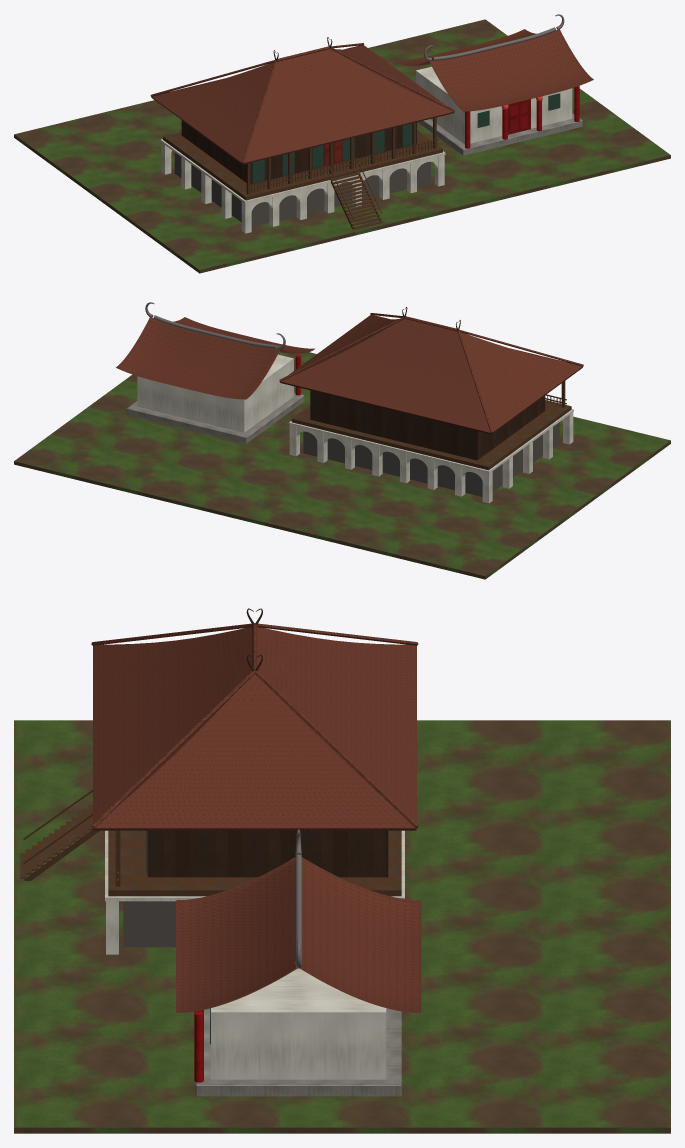
The model's file is kapitan.glb.
The picture shows the model from 3 angles, top to bottom: view 1: azimuth 30°, elevation 25°; view 2: azimuth 150°, elevation 25°; view 3: azimuth 270°, elevation 25°; orthographic projection. The views are drawn at different scales.
Parts seen in each view (by area): view 1: kapitan_tanah, kapitan_genteng_tua, kapitan_plester_putih, kapitan_kayu_balok, kapitan_kolong_gelap, kapitan_kayu_tua, kapitan_jalusi, kapitan_batu_alas, kapitan_merah_pilar, kapitan_pintu_merah, kapitan_bubung_gelap; view 2: kapitan_tanah, kapitan_genteng_tua, kapitan_plester_putih, kapitan_kayu_tua, kapitan_kolong_gelap, kapitan_kayu_balok, kapitan_batu_alas, kapitan_bubung_gelap; view 3: kapitan_tanah, kapitan_genteng_tua, kapitan_plester_putih, kapitan_kayu_tua, kapitan_kayu_balok, kapitan_batu_alas, kapitan_kolong_gelap, kapitan_bubung_gelap.
Part boxes in pixels (x1,y1,x2,y2): kapitan_tanah: (14, 19, 670, 273); kapitan_genteng_tua: (150, 29, 593, 164); kapitan_plester_putih: (160, 66, 572, 233); kapitan_kayu_balok: (163, 117, 442, 229); kapitan_kolong_gelap: (174, 152, 430, 226); kapitan_kayu_tua: (181, 37, 416, 184); kapitan_jalusi: (252, 93, 560, 183); kapitan_batu_alas: (417, 113, 582, 155); kapitan_merah_pilar: (465, 86, 579, 148); kapitan_pintu_merah: (508, 99, 530, 134); kapitan_bubung_gelap: (424, 14, 564, 60); kapitan_tanah: (14, 352, 670, 579); kapitan_genteng_tua: (116, 313, 583, 434); kapitan_plester_putih: (137, 354, 573, 503); kapitan_kayu_tua: (310, 307, 545, 460); kapitan_kolong_gelap: (303, 422, 559, 496); kapitan_kayu_balok: (291, 381, 571, 470); kapitan_batu_alas: (126, 392, 304, 443); kapitan_bubung_gelap: (145, 302, 285, 348); kapitan_tanah: (14, 720, 670, 1133); kapitan_genteng_tua: (91, 623, 421, 1012); kapitan_plester_putih: (105, 830, 404, 1079); kapitan_kayu_tua: (147, 608, 388, 877); kapitan_kayu_balok: (20, 790, 401, 896); kapitan_batu_alas: (195, 1008, 401, 1096); kapitan_kolong_gelap: (123, 901, 175, 947); kapitan_bubung_gelap: (295, 829, 302, 968).
Size of the model in its own units: 44 by 12.24 by 30.
13 materials, 10 textured.
